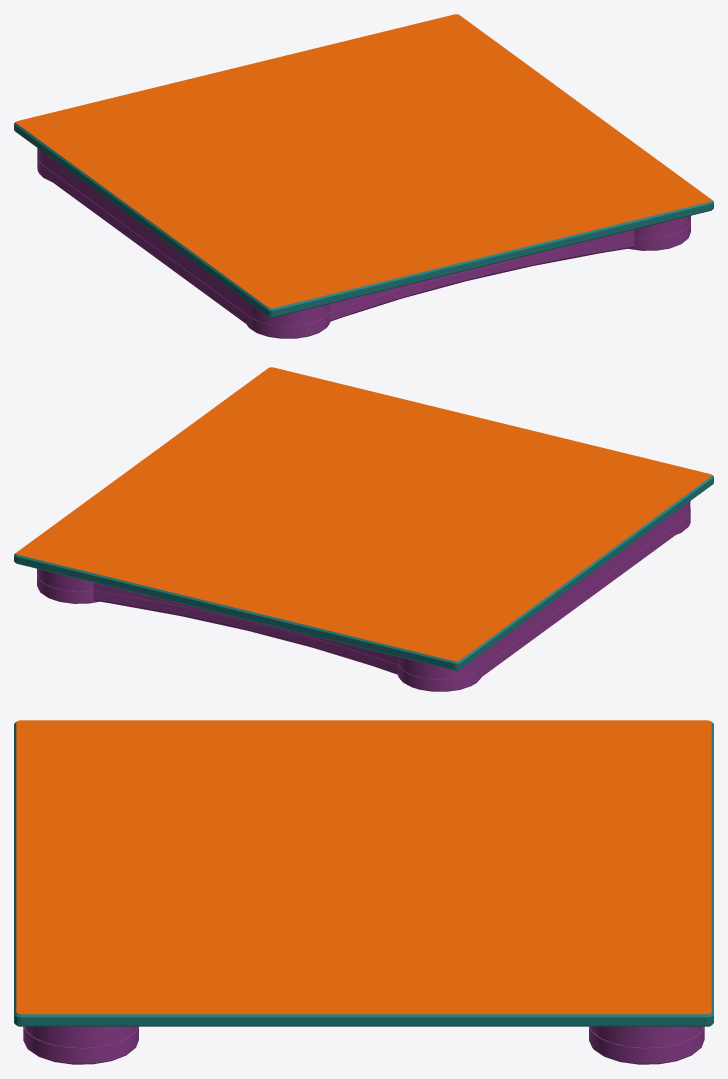
3 views of the same model, one above another, from view 1: azimuth 30°, elevation 25°; view 2: azimuth 150°, elevation 25°; view 3: azimuth 270°, elevation 25° (orthographic). The views are drawn at different scales.
Parts seen in each view (by area): view 1: 843; view 2: 843; view 3: 843.
Part boxes in pixels (bbox=[...]): 843: bbox=[14, 14, 713, 338]; 843: bbox=[14, 367, 713, 691]; 843: bbox=[14, 720, 713, 1064].
Size of the model in its own units: 30.2 by 2.94 by 30.2.
